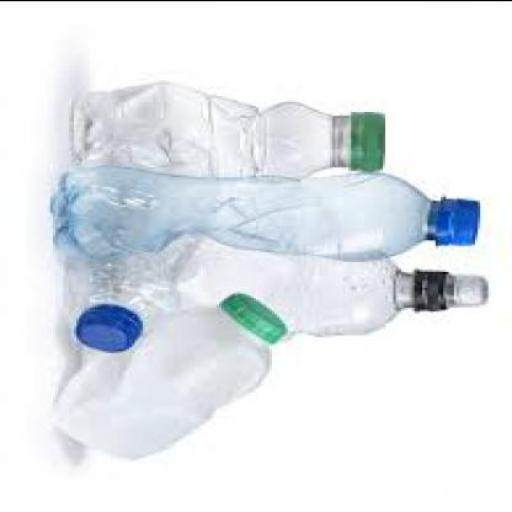plastic: (82, 243, 490, 338), (58, 292, 290, 458), (58, 172, 486, 258), (68, 83, 388, 182), (79, 239, 211, 354), (412, 268, 488, 313), (76, 306, 148, 352), (226, 292, 288, 344), (350, 112, 388, 172), (438, 200, 480, 247)
